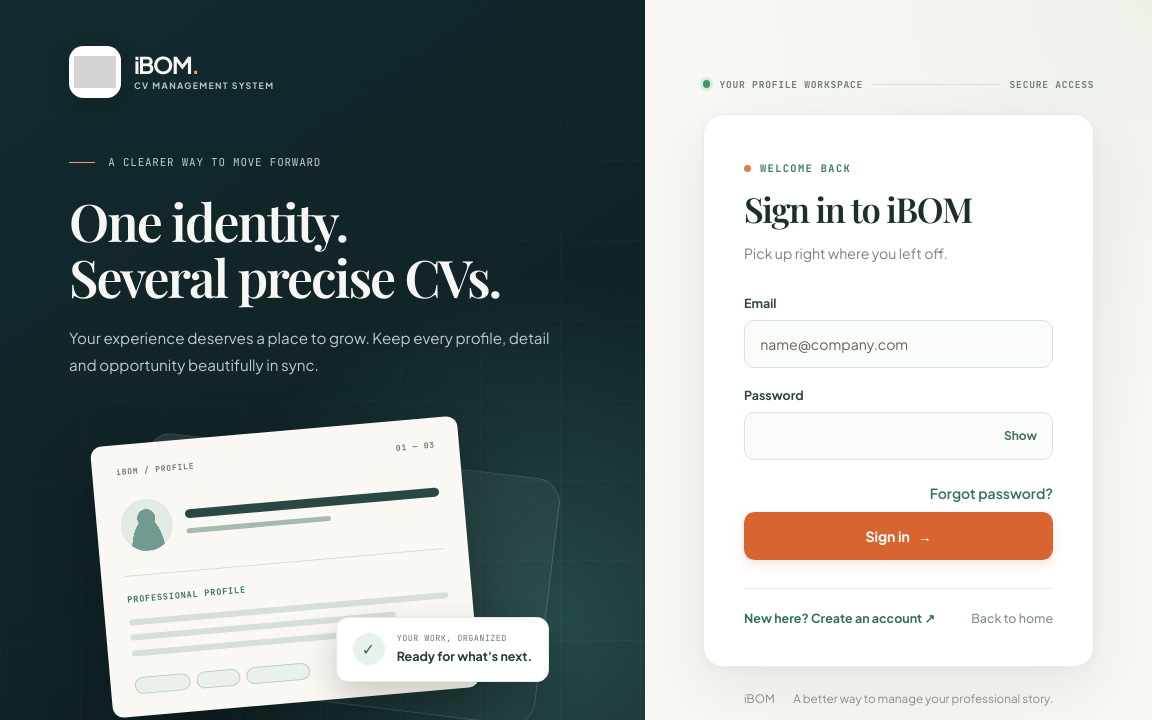
Scenario: LoginComponent › submits once, shows loading, then navigates on success
Type " USER@EXAMPLE.COM " into the field with id "email" at (899, 344), box top-left (744, 320), bottom-right (1053, 368)
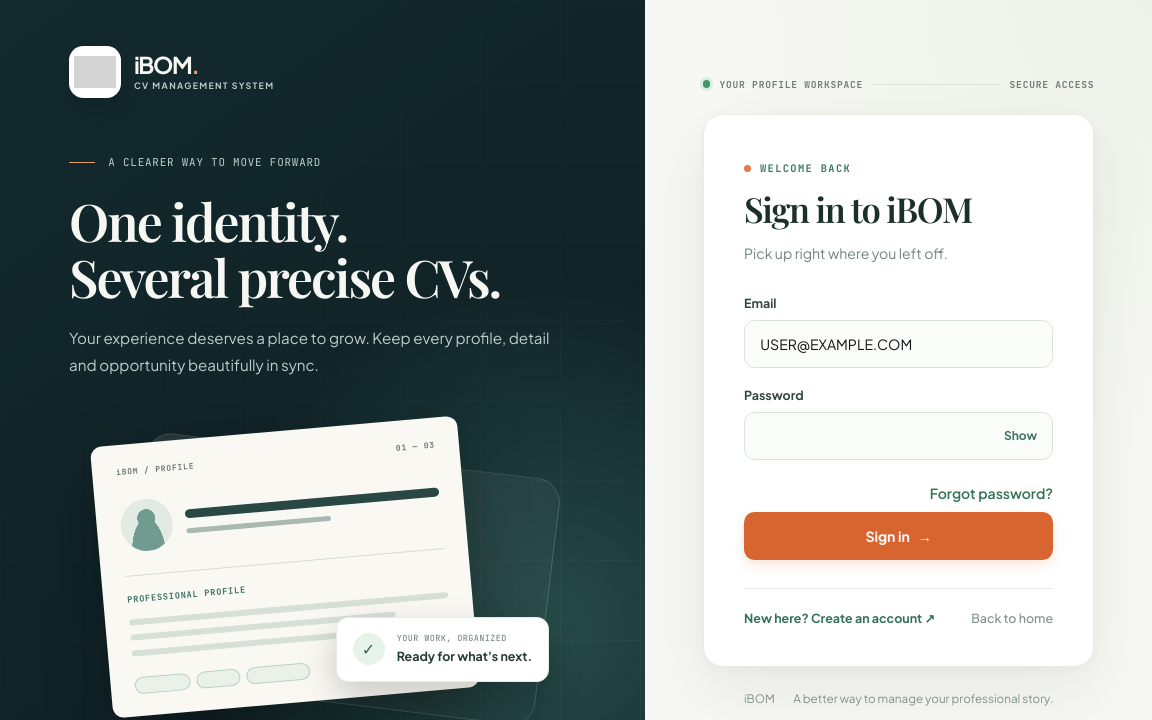
Type "secret" into the password field labelled "Password" at (899, 436), box top-left (744, 412), bottom-right (1053, 460)
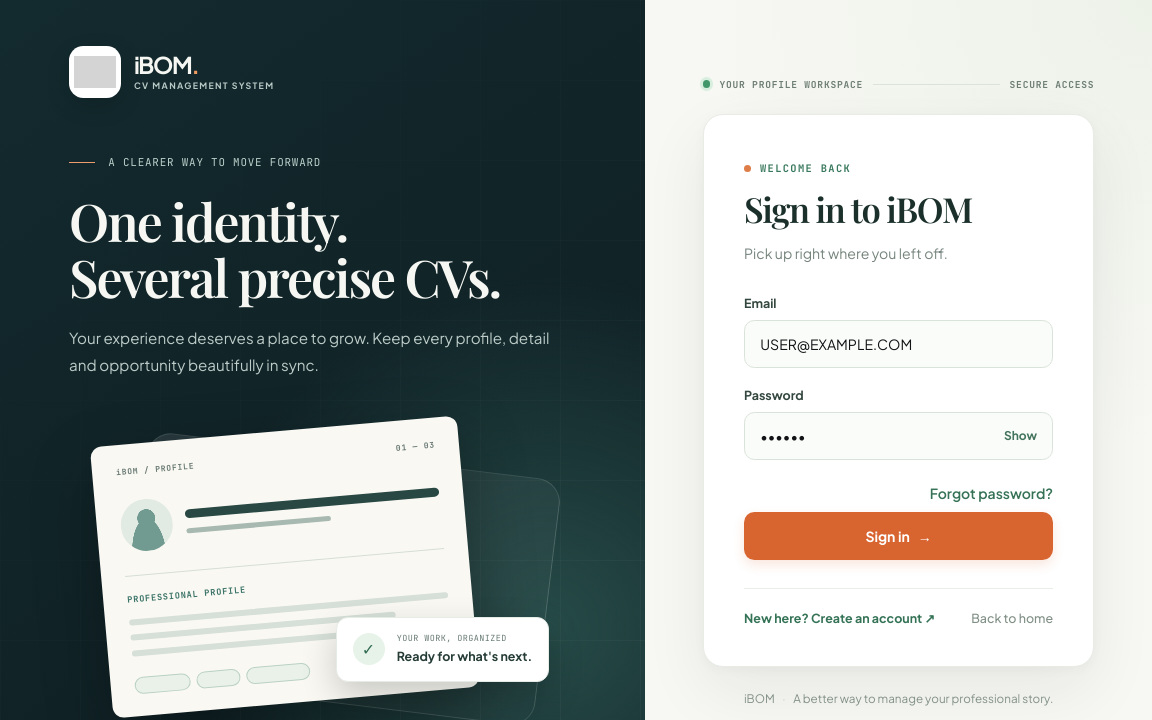
Submit the form with id "login-form", box top-left (744, 294), bottom-right (1053, 560)
Submit the form with id "login-form", box top-left (744, 294), bottom-right (1053, 560)
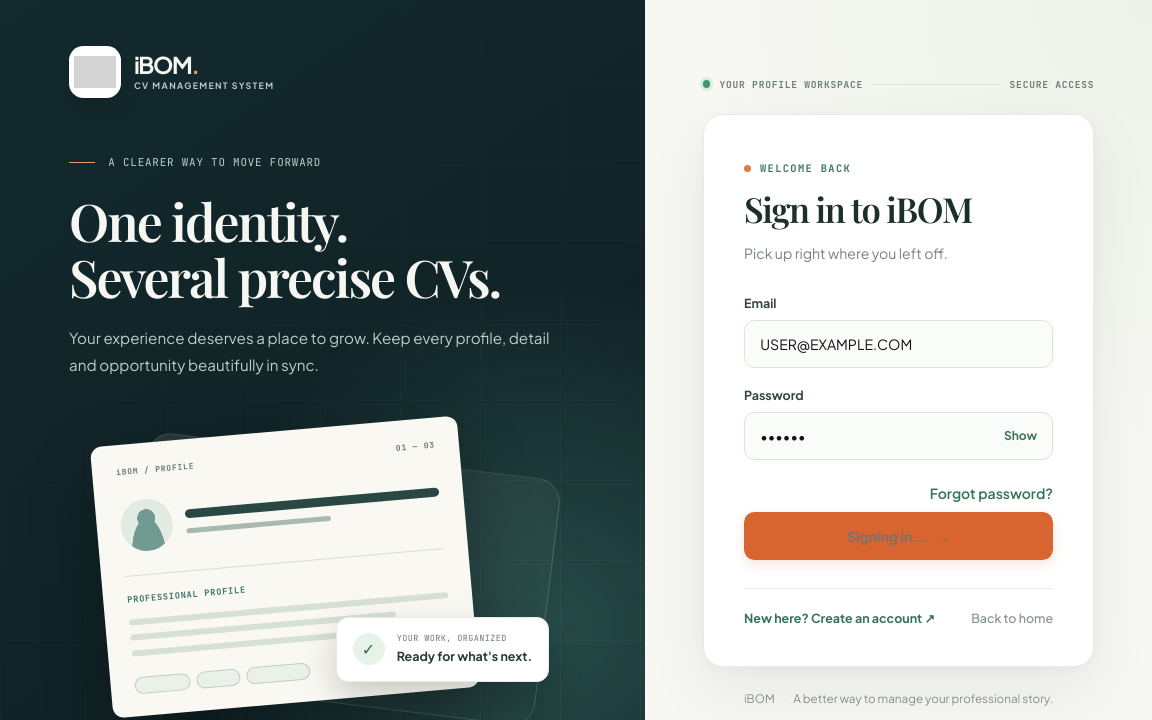
Result: the button with id "login-submit" is disabled at top-left (744, 512), bottom-right (1053, 560)
Result: the button with id "login-submit" shows "Signing in" at top-left (744, 512), bottom-right (1053, 560)
